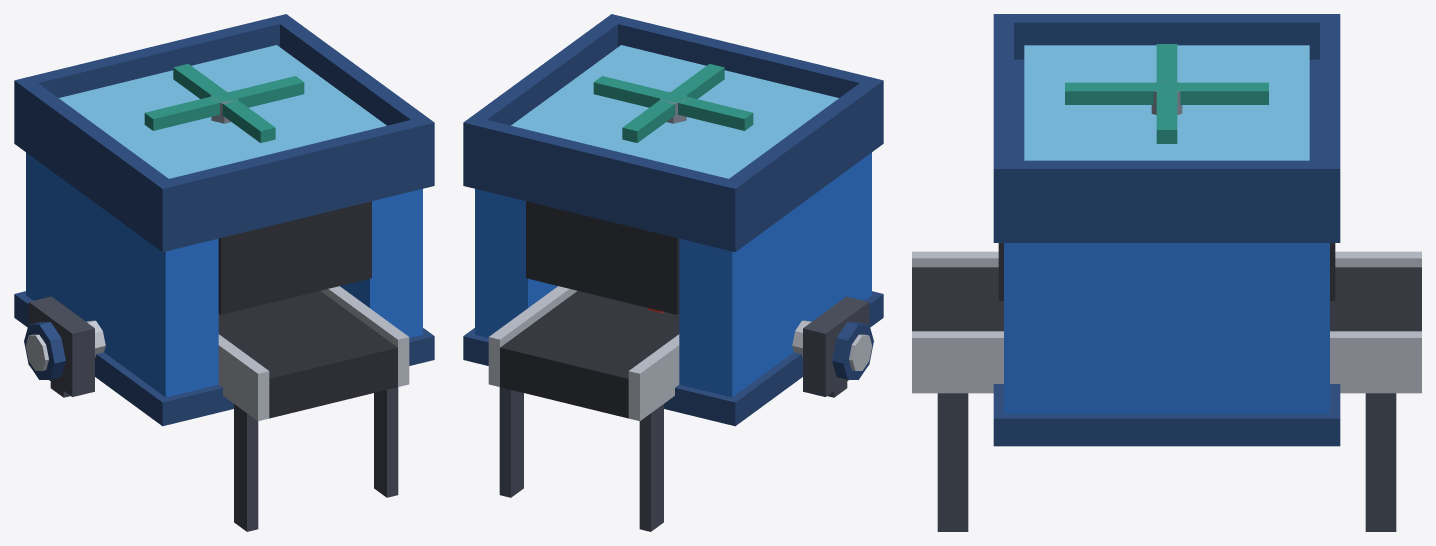
Rendered from washer-left.glb.
3 renders of one model, left to right at view 1: azimuth 30°, elevation 25°; view 2: azimuth 150°, elevation 25°; view 3: azimuth 270°, elevation 25°, orthographic. The views are drawn at different scales.
Visible parts, largest first — view 1: washer-left, spin-up; view 2: washer-left, spin-up; view 3: washer-left, spin-up.
Boxes of the visible parts, x1,y1,x2,y2 form: washer-left: (14, 14, 434, 531); spin-up: (144, 63, 304, 142); washer-left: (463, 14, 883, 531); spin-up: (593, 63, 753, 142); washer-left: (912, 14, 1421, 531); spin-up: (1065, 44, 1268, 143).
Size of the model in its own units: 0.86 by 0.87 by 1.
2 materials, 2 textured.
